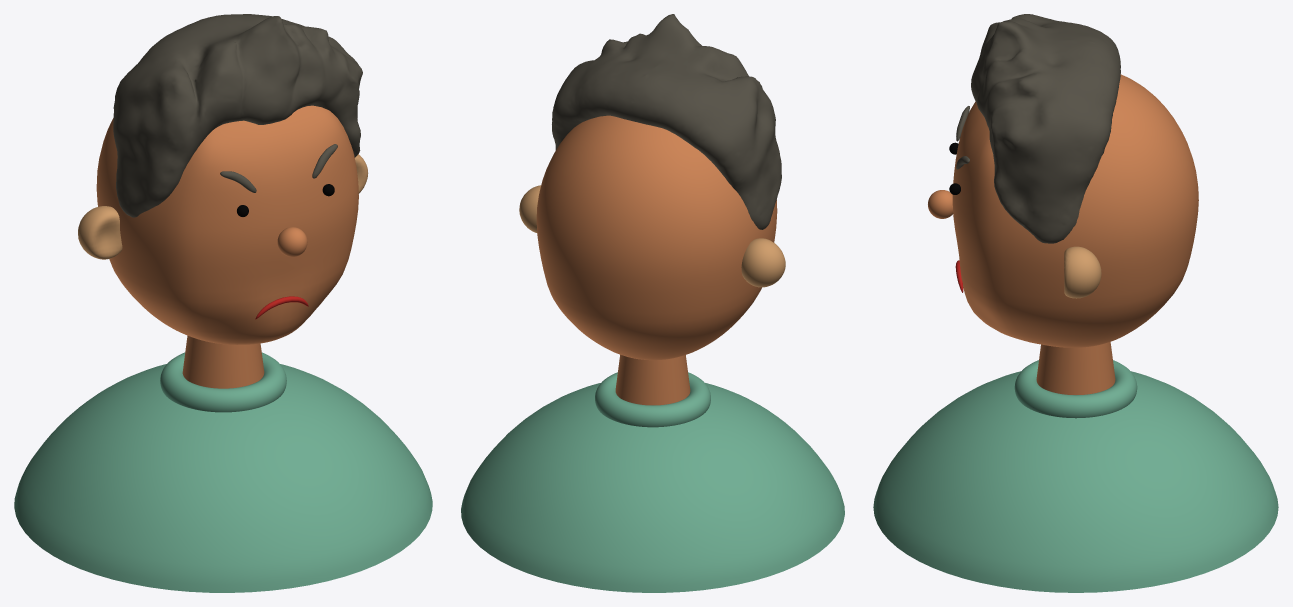
File: avatar1.dae
The picture shows the model from 3 angles, left to right: view 1: azimuth 30°, elevation 25°; view 2: azimuth 150°, elevation 25°; view 3: azimuth 270°, elevation 25°; orthographic projection. The views are drawn at different scales.
Visible parts, largest first — view 1: Body, Head, Hair, Collar, Neck, Ears, ShapeKey Face, Nose new; view 2: Body, Head, Hair, Collar, Neck, Ears; view 3: Body, Head, Hair, Collar, Neck, Ears, ShapeKey Face, Nose new.
Boxes of the visible parts, box(x1,y1,x2,y2) form: Body: box(14, 364, 432, 592); Head: box(96, 105, 358, 344); Hair: box(113, 14, 362, 217); Collar: box(160, 352, 286, 412); Neck: box(182, 335, 264, 388); Ears: box(78, 154, 368, 259); ShapeKey Face: box(220, 144, 337, 319); Nose new: box(277, 227, 307, 256); Body: box(461, 383, 844, 592); Head: box(536, 115, 777, 360); Hair: box(552, 14, 781, 229); Collar: box(595, 372, 710, 427); Neck: box(615, 354, 690, 405); Ears: box(519, 185, 785, 287); Body: box(873, 371, 1278, 592); Head: box(952, 74, 1198, 347); Hair: box(971, 14, 1120, 243); Collar: box(1014, 360, 1137, 418); Neck: box(1036, 342, 1115, 394); Ears: box(1064, 246, 1101, 298); ShapeKey Face: box(949, 106, 969, 292); Nose new: box(928, 190, 953, 218).
Bounding box in the file's own units: 1.68 × 1.68 × 2.25.
